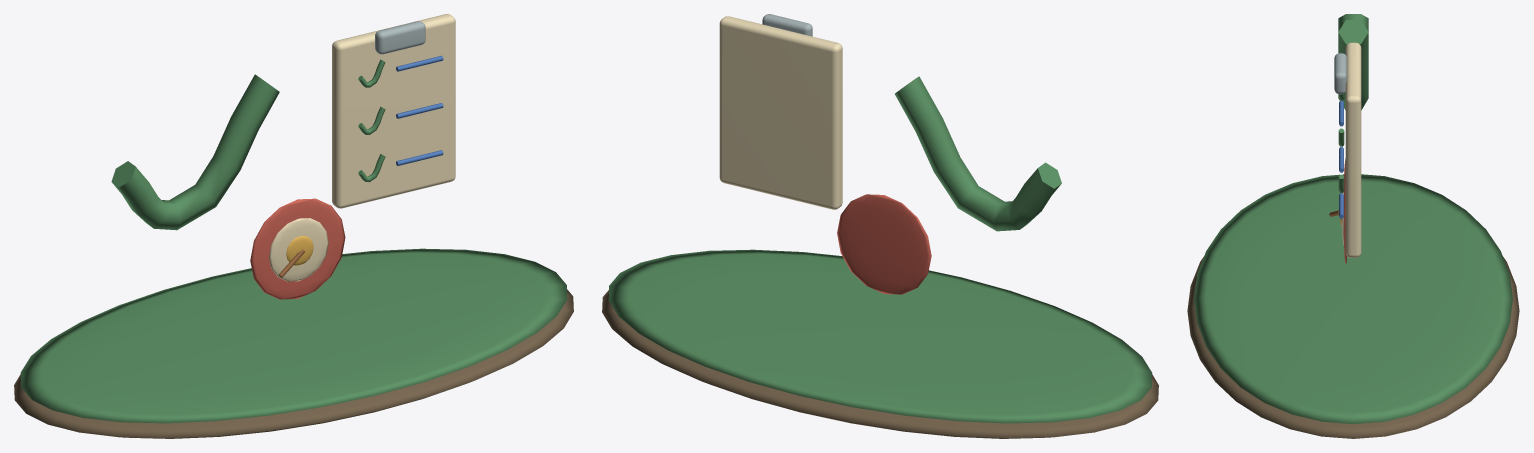
File: complete-second-correct-certain.glb
3 renders of one model, left to right at view 1: azimuth 30°, elevation 25°; view 2: azimuth 150°, elevation 25°; view 3: azimuth 270°, elevation 25°, orthographic. The views are drawn at different scales.
Visible parts, largest first — view 1: complete-second-correct-certain_surface_01, complete-second-correct-certain_surface_02, complete-second-correct-certain_surface_00, complete-second-correct-certain_surface_05, complete-second-correct-certain_surface_03, complete-second-correct-certain_surface_04, complete-second-correct-certain_surface_06; view 2: complete-second-correct-certain_surface_01, complete-second-correct-certain_surface_02, complete-second-correct-certain_surface_00, complete-second-correct-certain_surface_05, complete-second-correct-certain_surface_03; view 3: complete-second-correct-certain_surface_01, complete-second-correct-certain_surface_00, complete-second-correct-certain_surface_02, complete-second-correct-certain_surface_03, complete-second-correct-certain_surface_04.
Boxes of the visible parts, x1,y1,x2,y2 form: complete-second-correct-certain_surface_01: (20, 59, 567, 423); complete-second-correct-certain_surface_02: (269, 14, 455, 281); complete-second-correct-certain_surface_00: (14, 289, 573, 438); complete-second-correct-certain_surface_05: (250, 198, 345, 299); complete-second-correct-certain_surface_03: (375, 21, 425, 54); complete-second-correct-certain_surface_04: (396, 55, 443, 165); complete-second-correct-certain_surface_06: (286, 236, 313, 265); complete-second-correct-certain_surface_01: (608, 76, 1152, 423); complete-second-correct-certain_surface_02: (719, 16, 842, 209); complete-second-correct-certain_surface_00: (602, 290, 1158, 438); complete-second-correct-certain_surface_05: (837, 194, 931, 294); complete-second-correct-certain_surface_03: (762, 14, 812, 36); complete-second-correct-certain_surface_01: (1194, 14, 1512, 423); complete-second-correct-certain_surface_00: (1187, 257, 1519, 438); complete-second-correct-certain_surface_02: (1341, 42, 1361, 257); complete-second-correct-certain_surface_03: (1334, 53, 1346, 94); complete-second-correct-certain_surface_04: (1339, 100, 1343, 218).
Size of the model in its own units: 4.56 by 2.59 by 2.5.
